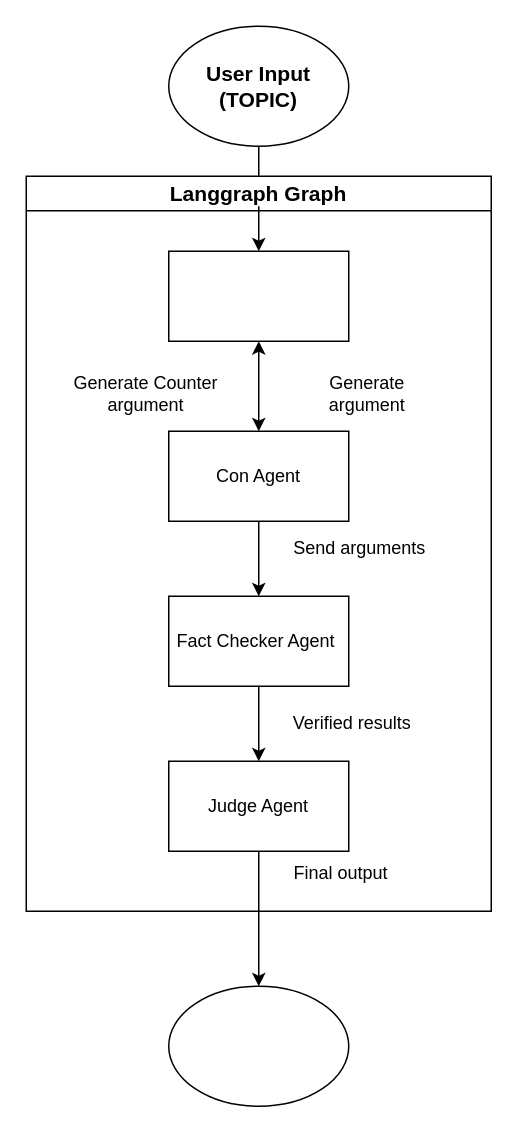
Image size: 518x1133. Some labels were removed from this diagram. Here are the shapes that lost their labels. From the top down, the centre of each, then its label:
At point (258, 295): "Pro Agent".
At point (258, 1045): "OUTPUT".
